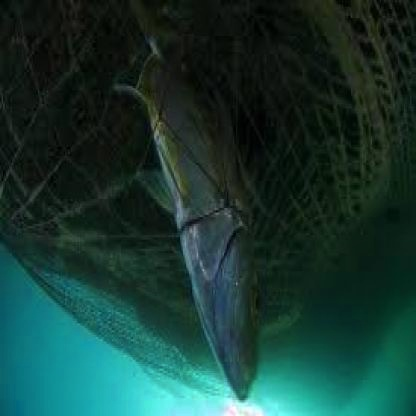net: (6, 2, 413, 346)
